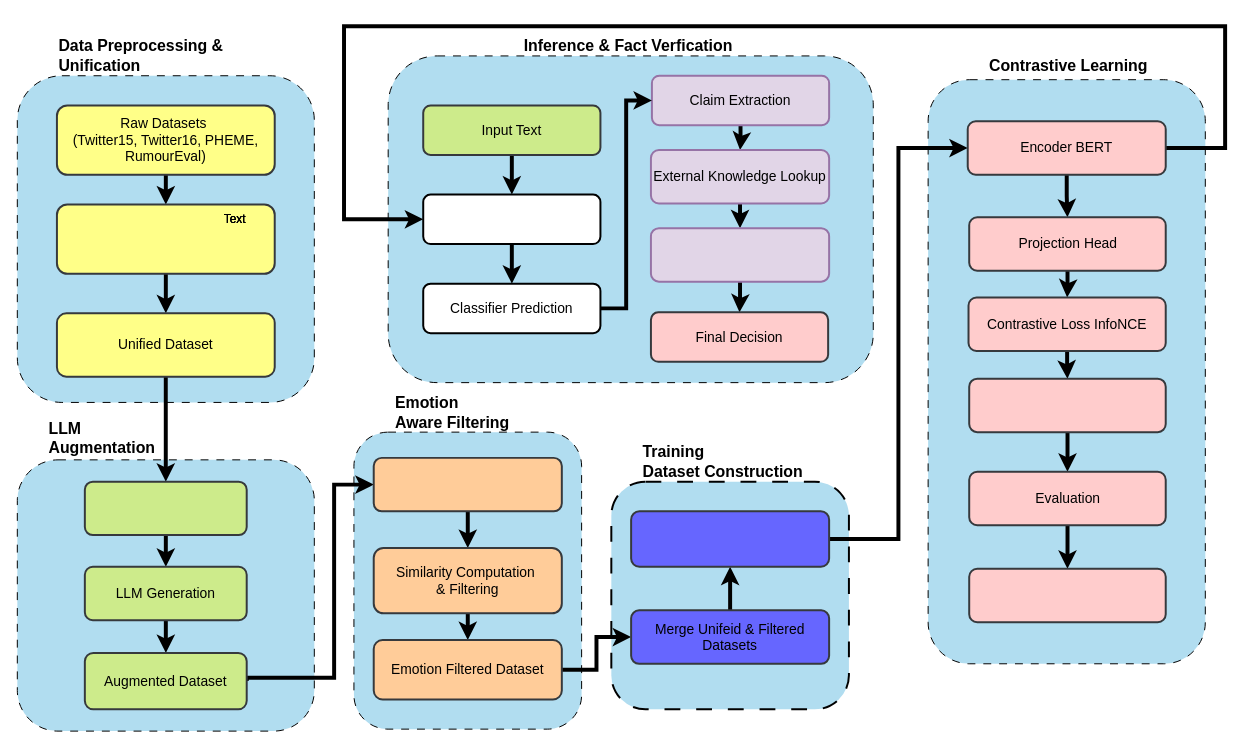
Some shapes in this 1252 by 748 pixel diagram are drawn without their labels. Here are the shapes that lost their labels. From the top down, the box of each, then its label:
(55, 203, 275, 274): Data Cleaning and Normalization
(422, 193, 601, 245): Trained Encoder
(649, 227, 830, 282): Fact Consistency Score
(968, 377, 1166, 433): Classifier Softmax
(372, 456, 562, 512): Emotion Extraction
(83, 480, 247, 536): Prompt Orchestration
(630, 510, 830, 567): Final Complete Dataset
(968, 567, 1166, 623): Metrics
